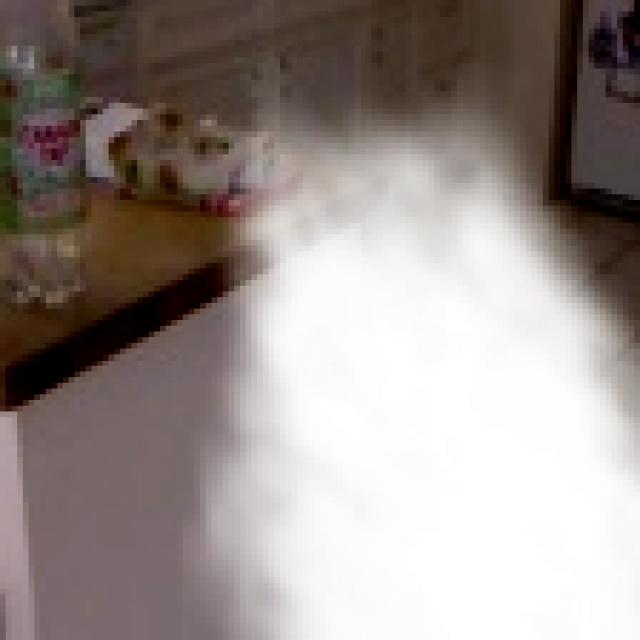smoke: (177, 51, 640, 640)
